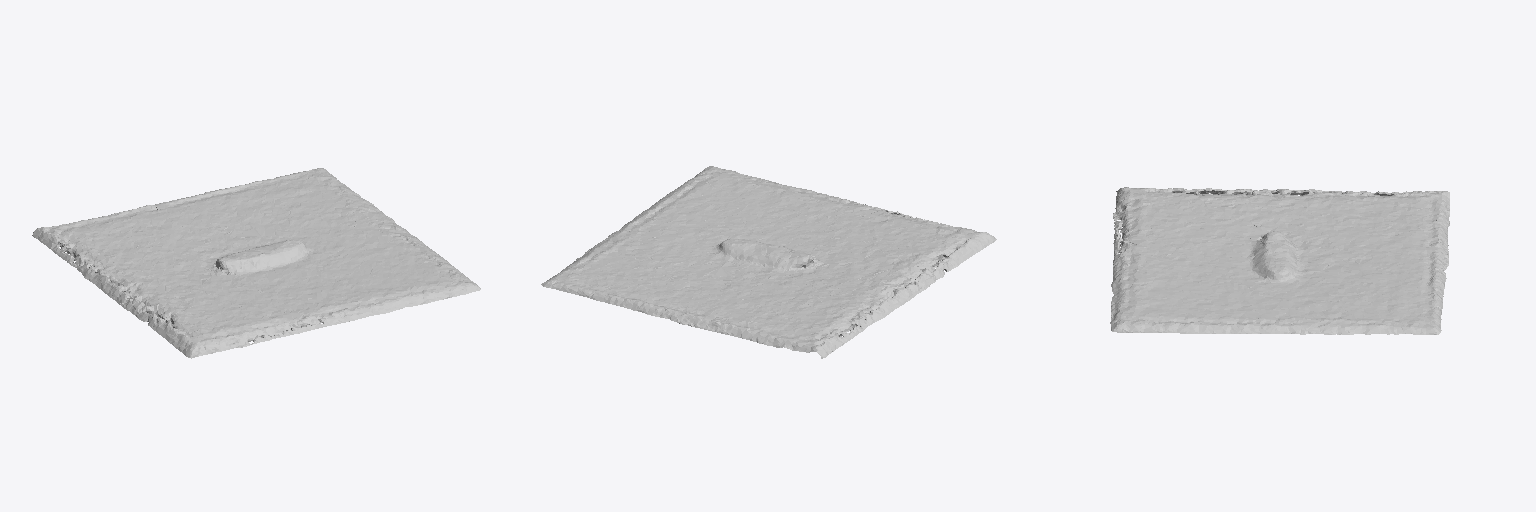
File: tenpochogin.obj.obj
3 renders of one model, left to right at view 1: azimuth 30°, elevation 25°; view 2: azimuth 150°, elevation 25°; view 3: azimuth 270°, elevation 25°, orthographic.
Bounding box in the file's own units: 0.3022 × 0.0133 × 0.2992.